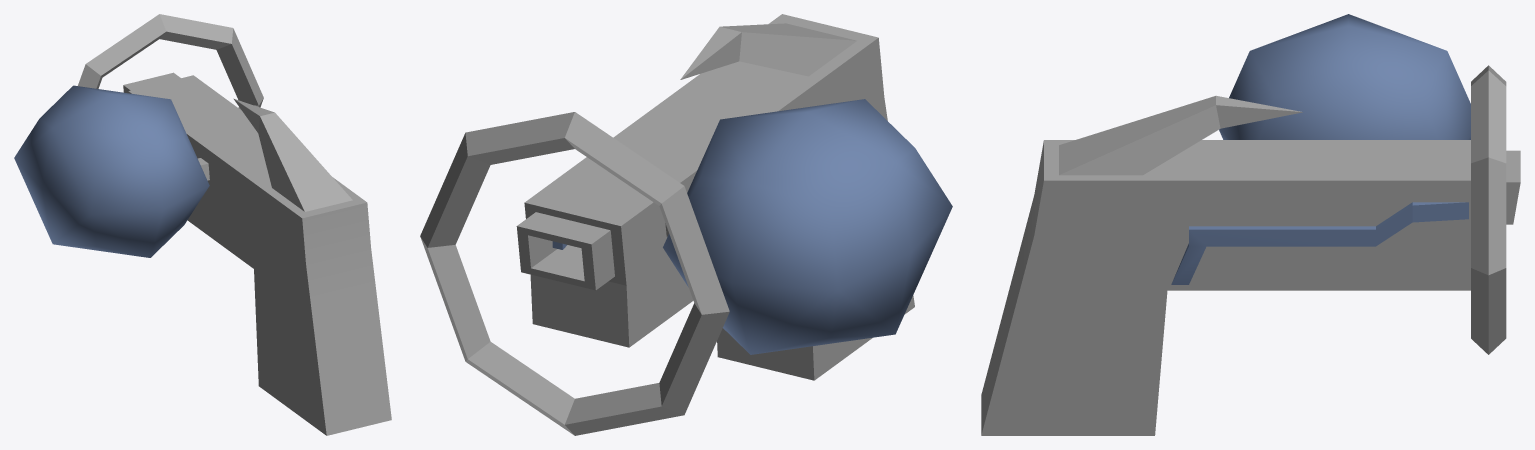
The model's file is GravityGun.fbx.
3 views of the same model, side by side, from view 1: azimuth 30°, elevation 25°; view 2: azimuth 150°, elevation 25°; view 3: azimuth 270°, elevation 25° (orthographic). The views are drawn at different scales.
Visible parts, largest first — view 1: pCube1, pCube2, pTorus1; view 2: pCube2, pCube1, pTorus1; view 3: pCube1, pCube2, pTorus1, pCube3.
Part boxes in pixels (x1=…): pCube1: x1=123, y1=72, x2=391, y2=435; pCube2: x1=14, y1=85, x2=209, y2=257; pTorus1: x1=78, y1=14, x2=263, y2=109; pCube2: x1=663, y1=99, x2=952, y2=354; pCube1: x1=516, y1=14, x2=914, y2=380; pTorus1: x1=420, y1=112, x2=729, y2=435; pCube1: x1=981, y1=95, x2=1520, y2=435; pCube2: x1=1219, y1=14, x2=1470, y2=139; pTorus1: x1=1471, y1=65, x2=1506, y2=354; pCube3: x1=1171, y1=202, x2=1468, y2=284.
Bounding box in the file's own units: 2.54 × 2.36 × 3.35.
